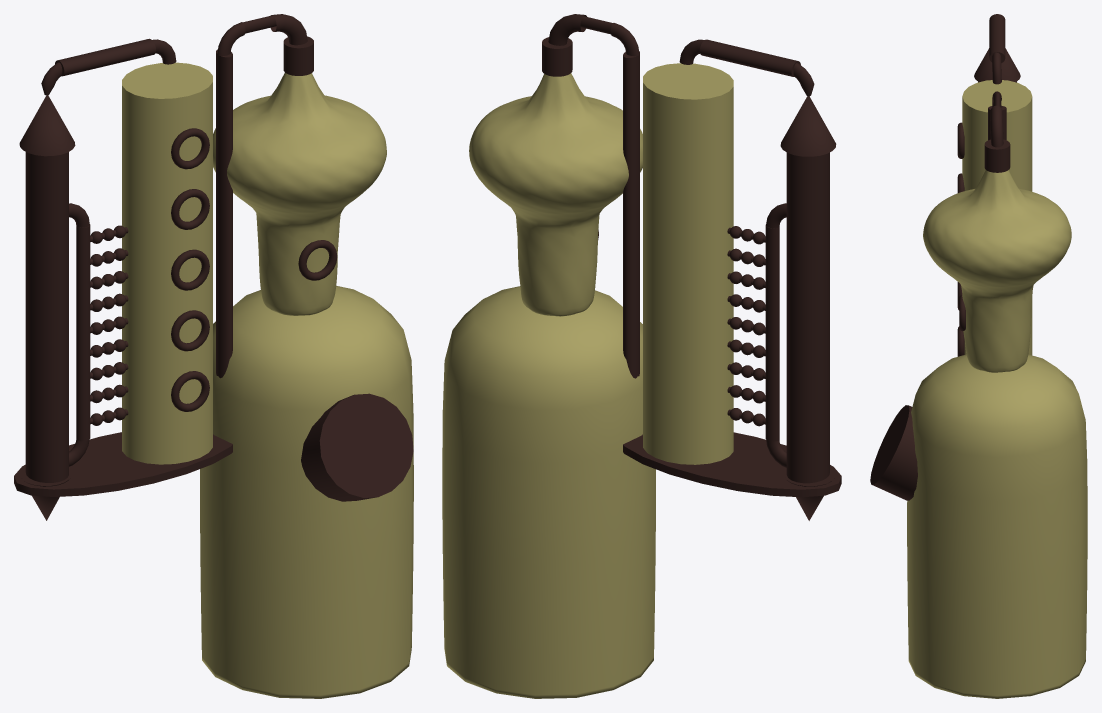
File: still2.fbx
3 views of the same model, side by side, from view 1: azimuth 30°, elevation 25°; view 2: azimuth 150°, elevation 25°; view 3: azimuth 270°, elevation 25° (orthographic). The views are drawn at different scales.
Visible parts, largest first — view 1: front1; view 2: front1; view 3: front1.
Part boxes in pixels (box(x1,y1,x2,y2)): front1: box(14, 14, 413, 698); front1: box(442, 14, 841, 698); front1: box(870, 14, 1087, 698).
Size of the model in its own units: 10.58 by 17.34 by 6.21.
